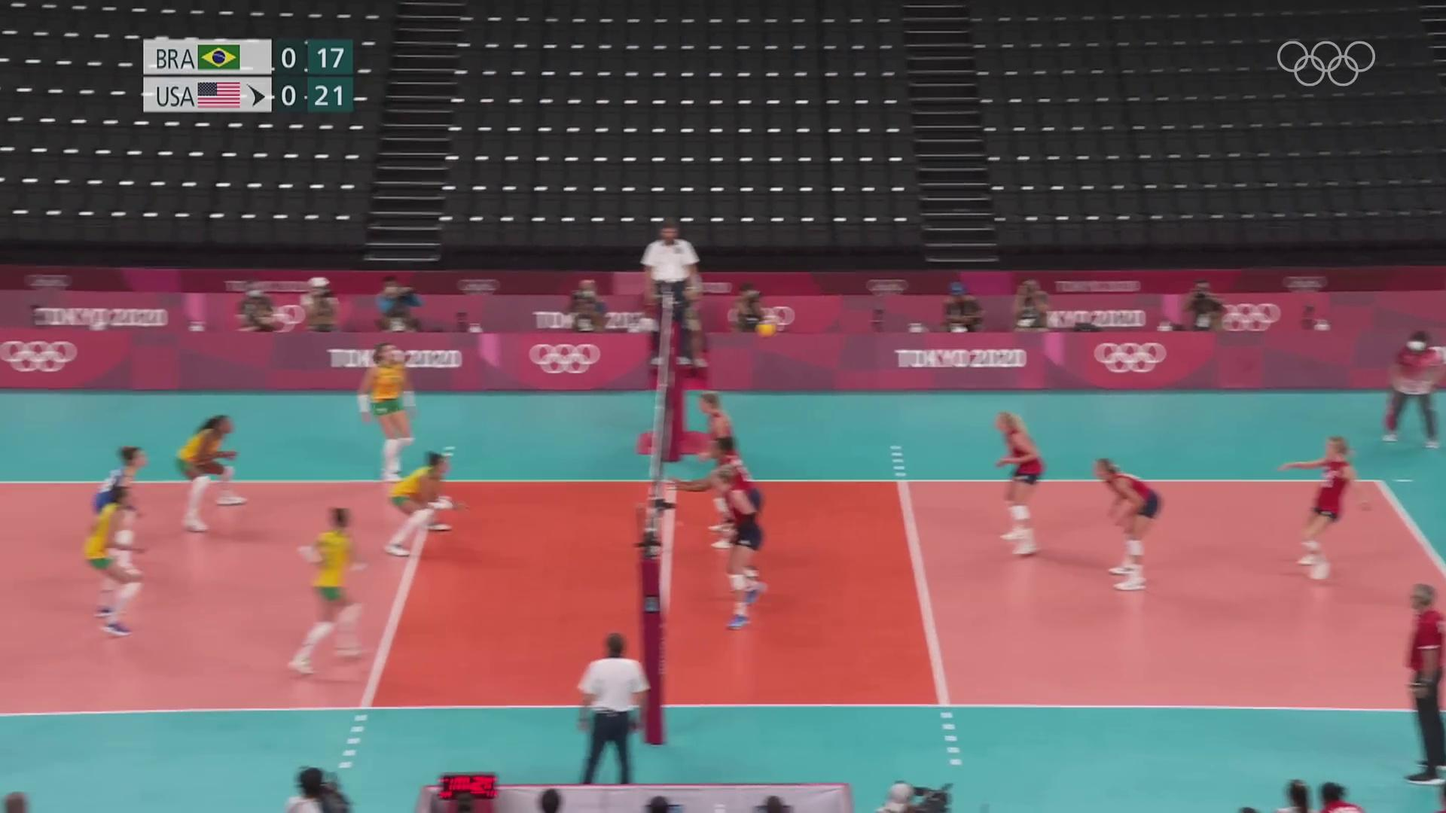player: (1276, 435, 1372, 587), (291, 507, 369, 675), (680, 440, 764, 574), (85, 486, 148, 637), (1096, 457, 1163, 590), (385, 451, 464, 557), (713, 472, 766, 628), (175, 415, 244, 534), (93, 444, 149, 581), (361, 343, 416, 480), (995, 413, 1046, 554), (698, 392, 742, 549)
refree: (579, 638, 654, 783), (644, 219, 700, 368), (1381, 328, 1445, 446)
